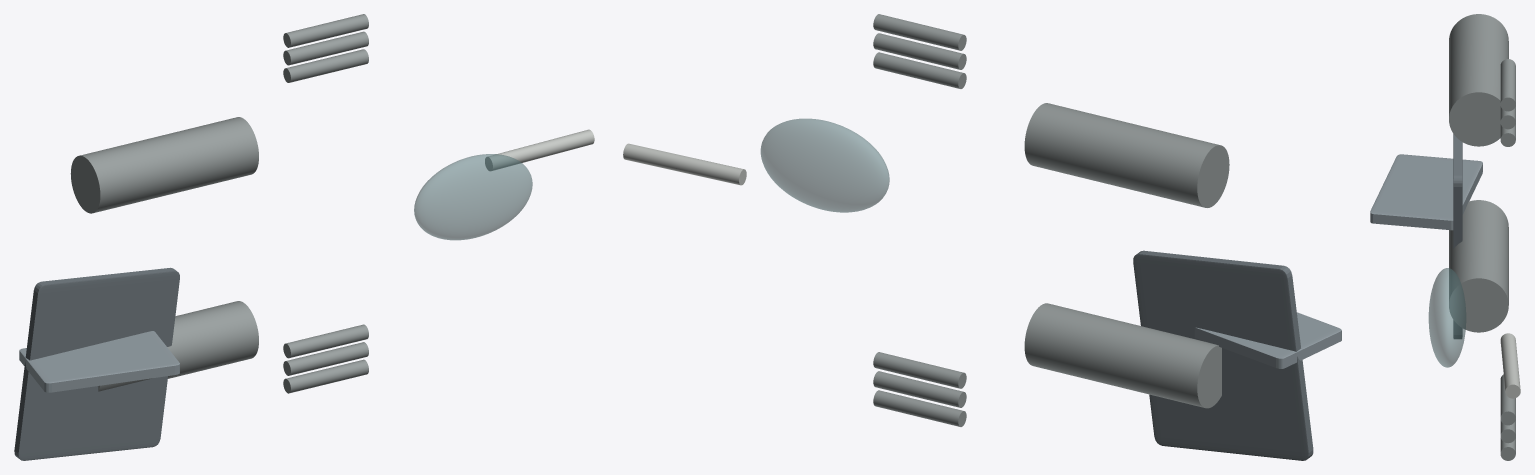
File: s-u24-specter-light-gunship-lod2.glb
3 views of the same model, side by side, from view 1: azimuth 30°, elevation 25°; view 2: azimuth 150°, elevation 25°; view 3: azimuth 270°, elevation 25° (orthographic). The views are drawn at different scales.
Visible parts, largest first — view 1: combat_tailplane_-1, combat_engine_1, combat_canopy, combat_fin_-1, combat_engine_0, combat_gun_barrel_0, combat_-1_tube_1, combat_1_tube_2, combat_-1_tube_3, combat_1_tube_1, combat_1_tube_3, combat_-1_tube_2; view 2: combat_tailplane_-1, combat_engine_1, combat_engine_0, combat_canopy, combat_fin_-1, combat_gun_barrel_0, combat_-1_tube_3, combat_1_tube_2, combat_-1_tube_2, combat_1_tube_1, combat_1_tube_3, combat_-1_tube_1; view 3: combat_engine_0, combat_engine_1, combat_fin_-1, combat_canopy, combat_tailplane_-1, combat_gun_barrel_0, combat_1_tube_3, combat_-1_tube_3, combat_1_tube_2, combat_-1_tube_2, combat_1_tube_1, combat_-1_tube_1.
Boxes of the visible parts, x1,y1,x2,y2 form: combat_tailplane_-1: [14, 267, 179, 460]; combat_engine_1: [70, 117, 258, 213]; combat_canopy: [414, 154, 532, 240]; combat_fin_-1: [19, 331, 179, 392]; combat_engine_0: [98, 301, 258, 391]; combat_gun_barrel_0: [485, 129, 594, 170]; combat_-1_tube_1: [283, 359, 368, 393]; combat_1_tube_2: [283, 31, 368, 65]; combat_-1_tube_3: [283, 324, 368, 358]; combat_1_tube_1: [283, 49, 368, 82]; combat_1_tube_3: [283, 14, 368, 47]; combat_-1_tube_2: [283, 342, 368, 375]; combat_tailplane_-1: [1133, 250, 1313, 460]; combat_engine_1: [1024, 103, 1229, 207]; combat_engine_0: [1024, 303, 1221, 408]; combat_canopy: [760, 118, 889, 212]; combat_fin_-1: [1194, 312, 1341, 368]; combat_gun_barrel_0: [623, 143, 746, 185]; combat_-1_tube_3: [873, 352, 966, 388]; combat_1_tube_2: [873, 33, 966, 69]; combat_-1_tube_2: [873, 371, 966, 407]; combat_1_tube_1: [873, 52, 966, 88]; combat_1_tube_3: [873, 14, 966, 50]; combat_-1_tube_1: [873, 390, 966, 426]; combat_engine_0: [1449, 200, 1508, 332]; combat_engine_1: [1449, 14, 1508, 146]; combat_fin_-1: [1370, 154, 1482, 230]; combat_canopy: [1428, 268, 1466, 367]; combat_tailplane_-1: [1453, 134, 1462, 338]; combat_gun_barrel_0: [1500, 333, 1520, 398]; combat_1_tube_3: [1500, 59, 1515, 111]; combat_-1_tube_3: [1500, 374, 1515, 425]; combat_1_tube_2: [1500, 105, 1515, 129]; combat_-1_tube_2: [1500, 419, 1515, 443]; combat_1_tube_1: [1500, 123, 1515, 146]; combat_-1_tube_1: [1500, 437, 1515, 460].
Size of what is drawn, in the model's own units: 11.96 by 6.83 by 2.56.
